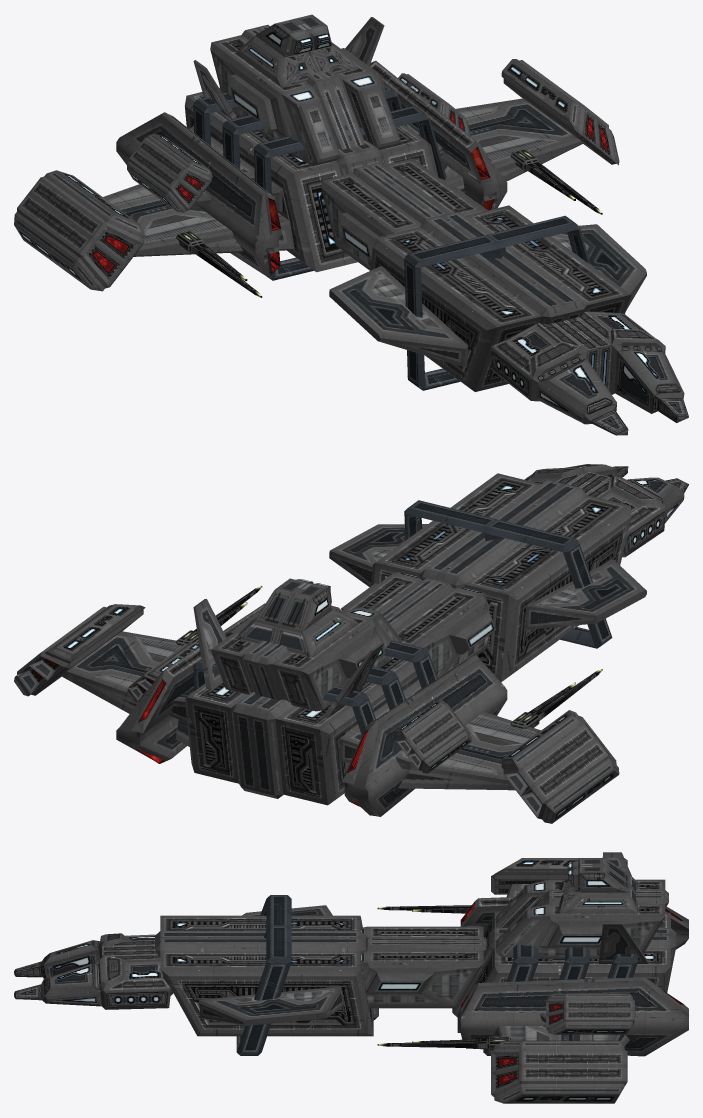
File: zarykorStarship05.FBX
3 renders of one model, top to bottom at view 1: azimuth 30°, elevation 25°; view 2: azimuth 150°, elevation 25°; view 3: azimuth 270°, elevation 25°, orthographic. The views are drawn at different scales.
Parts seen in each view (by area): view 1: ZarykorStarship05; view 2: ZarykorStarship05; view 3: ZarykorStarship05.
Part boxes in pixels (x1,y1,x2,y2): ZarykorStarship05: (14, 14, 688, 435); ZarykorStarship05: (14, 464, 688, 823); ZarykorStarship05: (14, 852, 688, 1103).
Bounding box in the file's own units: 2.43 × 3.2 × 0.8024.
